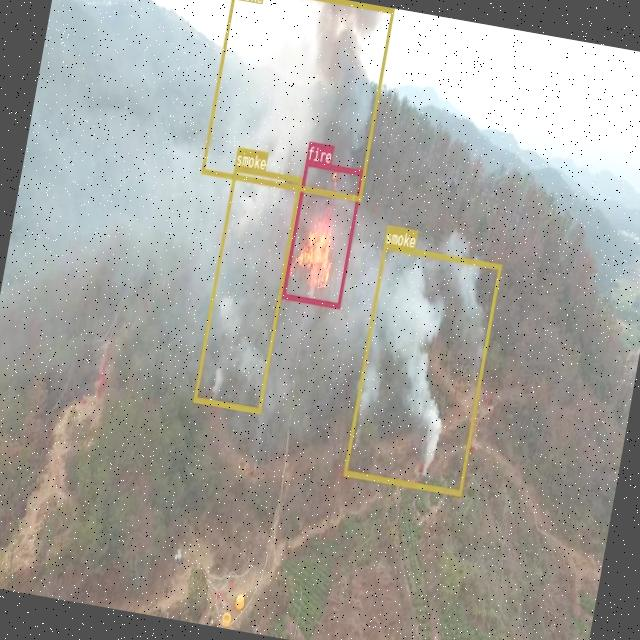fire: (281, 158, 363, 306)
smoke: (342, 243, 501, 494), (200, 0, 393, 199), (193, 165, 301, 412)
